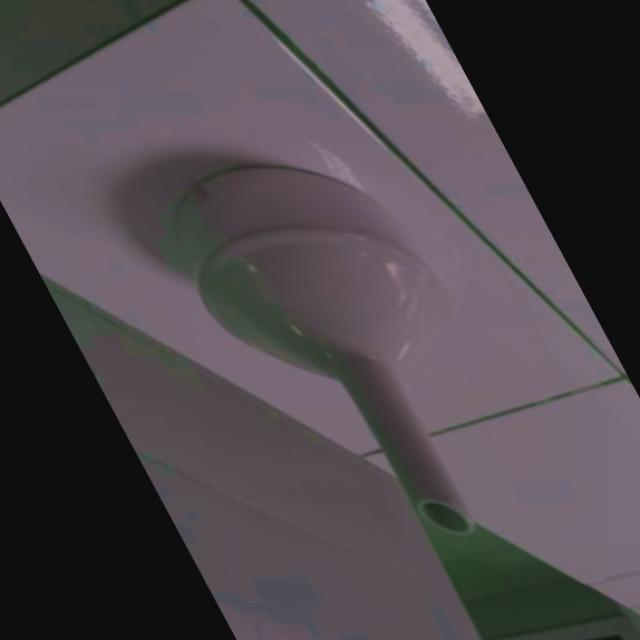Bunchen funnel: (126, 154, 597, 550)
